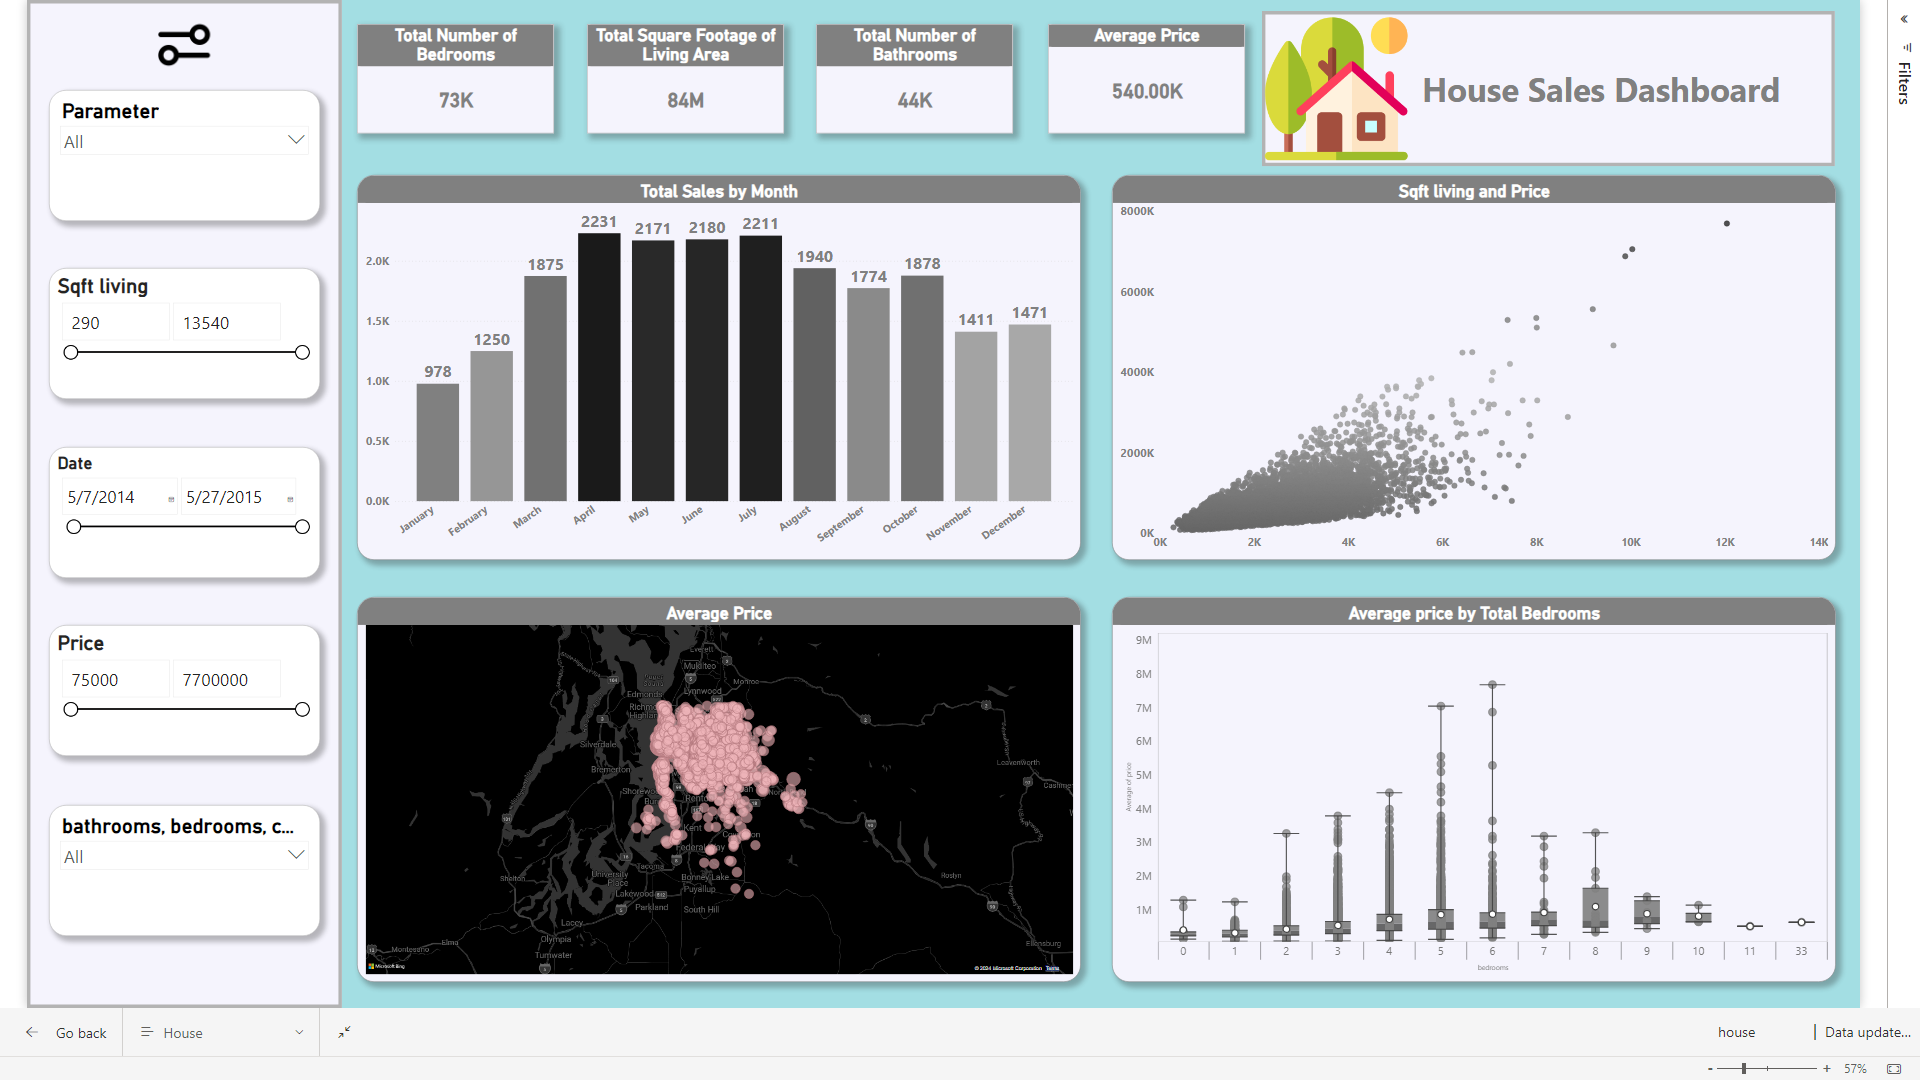

The dashboard page shown, as its layout file describes it:
{"tool":"powerbi","page":{"name":"House","canvas":[3220,1770],"ordinal":0},"visuals":[{"type":"shape","box":[0,0,552.9,1770],"z":0},{"type":"slicer","fields":{"Values":["Parameter.Parameter"]},"box":[38.4,157.4,476.1,230.4],"z":1000},{"type":"slicer","fields":{"Values":["kc_house_data.bathrooms"]},"box":[38.4,1412.9,476.1,230.4],"z":2000},{"type":"slicer","title":"Date","fields":{"Values":["kc_house_data.date"]},"box":[38.4,785.2,476.1,230.4],"z":3000},{"type":"slicer","title":"Sqft living","fields":{"Values":["kc_house_data.sqft_living"]},"box":[38.4,471.3,476.1,230.4],"z":4000},{"type":"slicer","title":"Price","fields":{"Values":["kc_house_data.price"]},"box":[38.4,1098.1,476.1,230.4],"z":5000},{"type":"clusteredColumnChart","title":"Total Sales by Month","fields":{"Category":["kc_house_data.date.Variation.Date Hierarchy.Month"],"Y":["CountNonNull(kc_house_data.id)"]},"box":[579.8,307.2,1270.9,675.7],"z":6000},{"type":"map","title":"Average Price","fields":{"Y":["kc_house_data.lat"],"X":["kc_house_data.long"],"Size":["Avg(kc_house_data.price)"]},"box":[579.8,1048.2,1270.9,675.7],"z":7000},{"type":"scatterChart","title":"Sqft living and Price","fields":{"Y":["kc_house_data.price"],"X":["kc_house_data.sqft_living"]},"box":[1904.4,307.2,1270.9,675.7],"z":8000},{"type":"BoxandWhiskerByMAQ1823AD39DT234AB532063E128AX","title":"Average price by Total Bedrooms","fields":{"category":["kc_house_data.price"],"categoryGroup":["kc_house_data.bedrooms"],"measure":["Avg(kc_house_data.price)"]},"box":[1904.4,1048.2,1270.9,675.7],"z":9000},{"type":"card","title":"Average Price","fields":{"Values":["Avg(kc_house_data.price)"]},"box":[1793,42.2,345.6,192],"z":10000},{"type":"card","title":"Total Number of Bedrooms","fields":{"Values":["Sum(kc_house_data.bedrooms)"]},"box":[579.8,42.2,345.6,192],"z":11000},{"type":"card","title":"Total Number of Bathrooms","fields":{"Values":["Sum(kc_house_data.bathrooms)"]},"box":[1386.1,42.2,345.6,192],"z":12000},{"type":"card","title":"Total Square Footage of Living Area","fields":{"Values":["kc_house_data.TotalSqftLiving"]},"box":[982.9,42.2,345.6,192],"z":13000},{"type":"shape","box":[2169.3,19.2,1005.9,272.6],"z":13001},{"type":"image","box":[2169.3,19.2,261.1,272.6],"z":13002},{"type":"image","box":[126.7,19.2,299.5,119],"z":13003}]}

Visuals, with their boxes in screenshot pixels (x1, y1, x2, y2):
shape: region(25, 0, 339, 999)
slicer - Parameter.Parameter: region(47, 84, 317, 215)
slicer - kc_house_data.bathrooms: region(47, 796, 317, 927)
"Date" slicer: region(47, 440, 317, 571)
"Sqft living" slicer: region(47, 262, 317, 393)
"Price" slicer: region(47, 618, 317, 748)
"Total Sales by Month" clusteredColumnChart: region(354, 169, 1075, 552)
"Average Price" map: region(354, 590, 1075, 973)
"Sqft living and Price" scatterChart: region(1105, 169, 1826, 552)
"Average price by Total Bedrooms" BoxandWhiskerByMAQ1823AD39DT234AB532063E128AX: region(1105, 590, 1826, 973)
"Average Price" card: region(1042, 19, 1238, 128)
"Total Number of Bedrooms" card: region(354, 19, 550, 128)
"Total Number of Bathrooms" card: region(811, 19, 1007, 128)
"Total Square Footage of Living Area" card: region(582, 19, 778, 128)
shape: region(1255, 6, 1826, 161)
image: region(1255, 6, 1403, 161)
image: region(97, 6, 267, 73)
